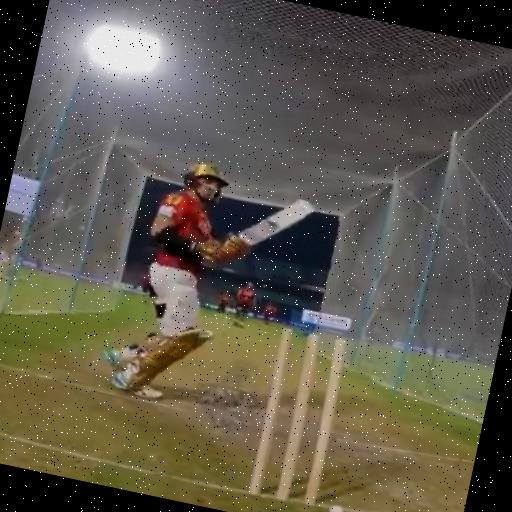Cricket bat: (239, 199, 313, 245)
